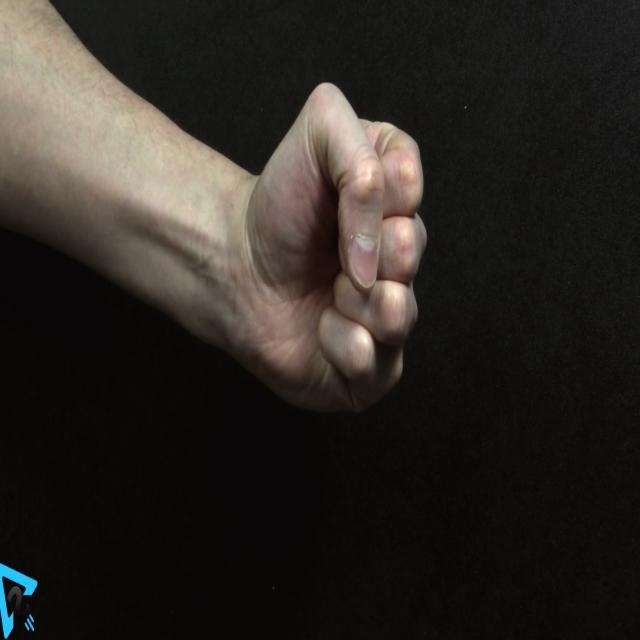Rock: (242, 71, 427, 414)
